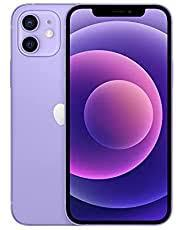Smartphone: (67, 7, 165, 223), (11, 5, 81, 224)
